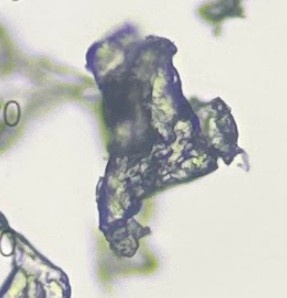microplastic: (1, 13, 161, 295), (84, 22, 250, 259), (1, 210, 73, 298), (196, 1, 247, 38)
